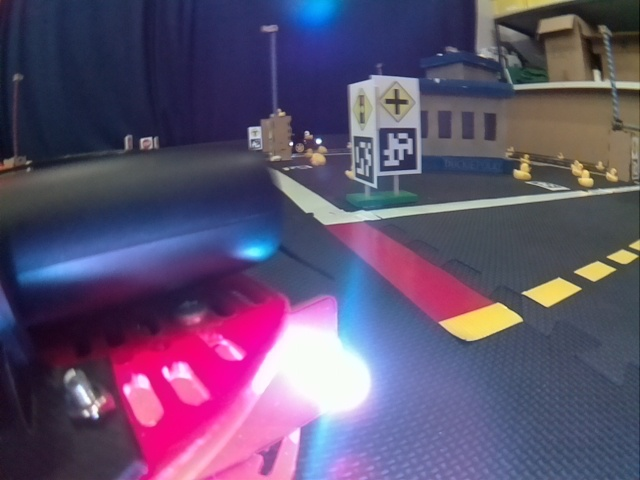Duckie: (515, 163, 532, 180), (578, 170, 593, 187), (313, 153, 326, 164), (606, 169, 616, 181), (557, 152, 565, 160), (596, 162, 602, 171)
Duckiebot: (5, 155, 350, 471)
Intersection sign: (379, 80, 417, 126)
QR code: (380, 127, 418, 171), (353, 142, 375, 184)
Signal sign: (352, 89, 373, 125)
